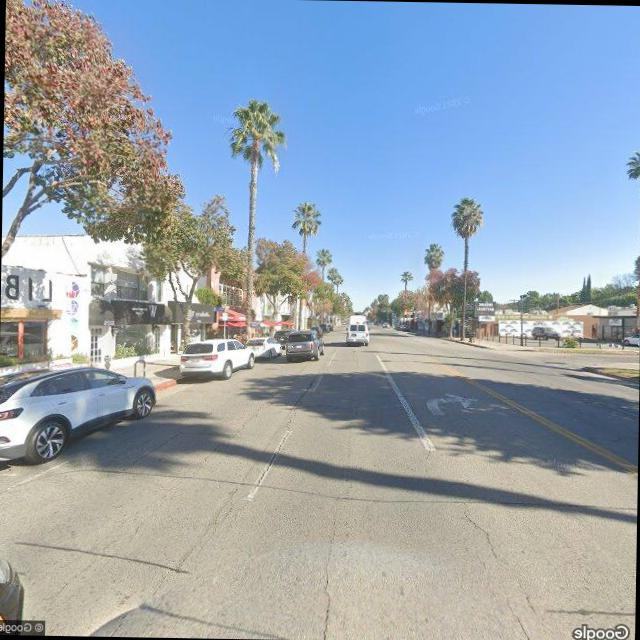pothole: (312, 514, 346, 640), (250, 421, 297, 504), (459, 499, 500, 568)
